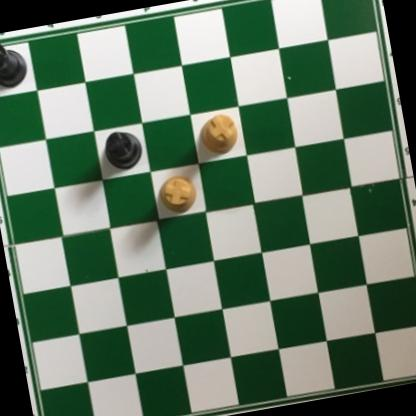black-rook: (100, 127, 147, 173), (0, 36, 32, 94)
white-rook: (195, 111, 240, 159), (154, 172, 198, 218)
